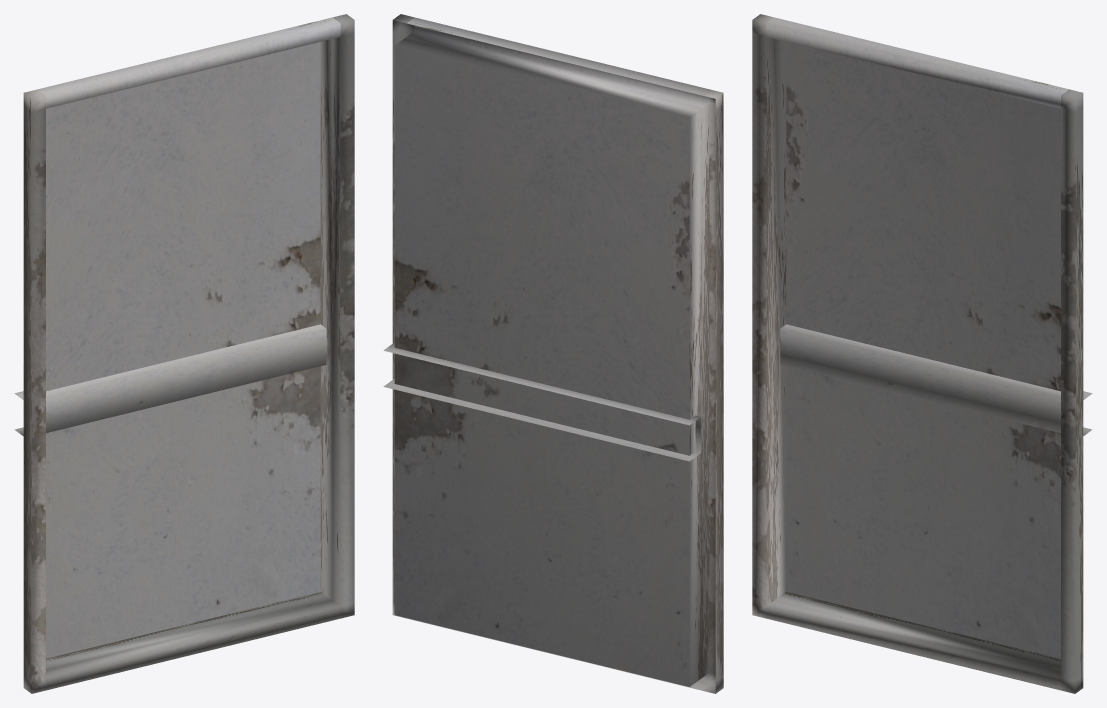
The model's file is door.fbx.
The picture shows the model from 3 angles, left to right: view 1: azimuth 30°, elevation 25°; view 2: azimuth 150°, elevation 25°; view 3: azimuth 330°, elevation 25°; orthographic projection.
Parts seen in each view (by area): view 1: 23; view 2: 23; view 3: 23.
Part boxes in pixels (box(x1,y1,x2,y2)): 23: box(14, 14, 354, 693); 23: box(383, 14, 723, 693); 23: box(752, 14, 1092, 693).
Size of the model in its own units: 126 by 221 by 17.49.
